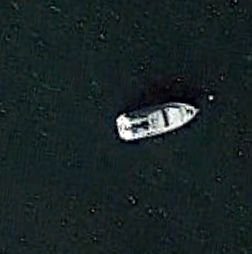boat: (115, 100, 203, 143)
